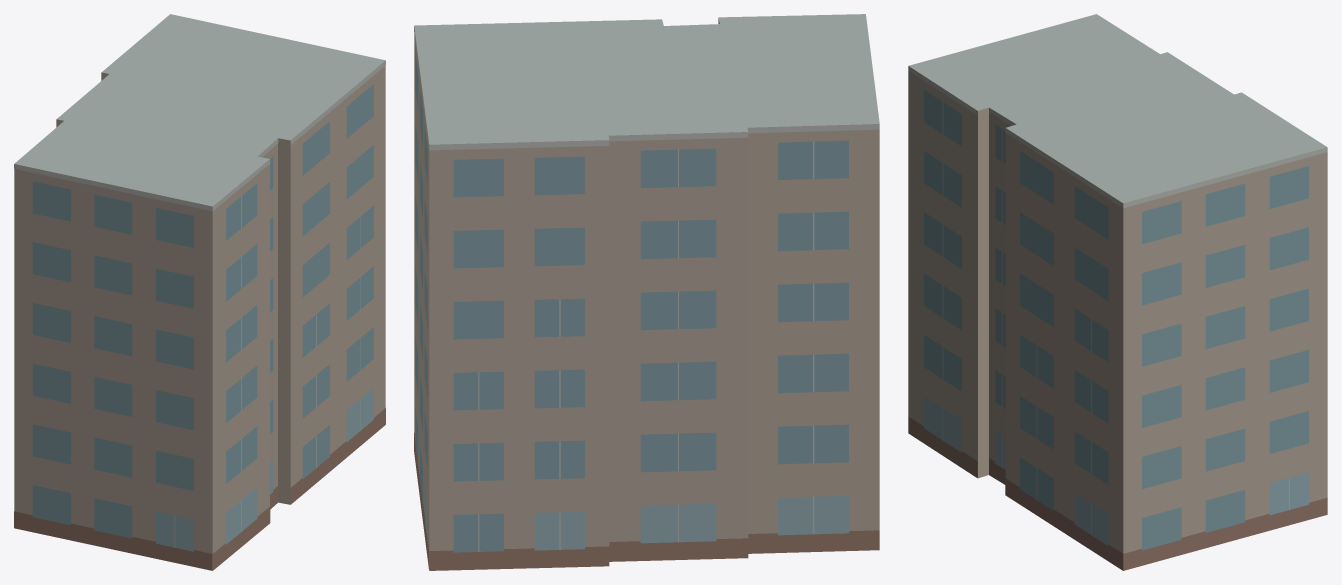
File: survey-upis-32618795.glb
3 renders of one model, left to right at view 1: azimuth 30°, elevation 25°; view 2: azimuth 150°, elevation 25°; view 3: azimuth 270°, elevation 25°, orthographic. The views are drawn at different scales.
Visible parts, largest first — view 1: survey-upis-32618795.tmp; view 2: survey-upis-32618795.tmp; view 3: survey-upis-32618795.tmp.
Part boxes in pixels (left/top/right/bottom): survey-upis-32618795.tmp: left=14, top=14, right=385, bottom=570; survey-upis-32618795.tmp: left=414, top=14, right=879, bottom=570; survey-upis-32618795.tmp: left=908, top=14, right=1327, bottom=570.
Size of the model in its own units: 20.24 by 18.3 by 18.93.
